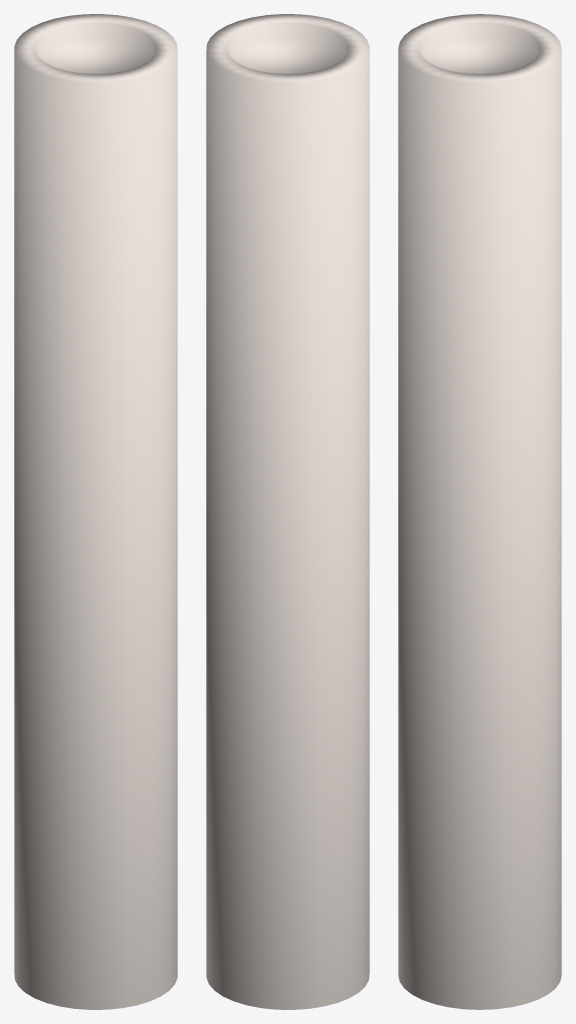
File: Vela.fbx
3 renders of one model, left to right at view 1: azimuth 30°, elevation 25°; view 2: azimuth 150°, elevation 25°; view 3: azimuth 270°, elevation 25°, orthographic.
Visible parts, largest first — view 1: Vela; view 2: Vela; view 3: Vela.
Boxes of the visible parts, box(x1,y1,x2,y2) form: Vela: box(14, 14, 177, 1009); Vela: box(206, 14, 369, 1009); Vela: box(398, 14, 561, 1009).
Size of the model in its own units: 9.93 by 9.93 by 62.11.
